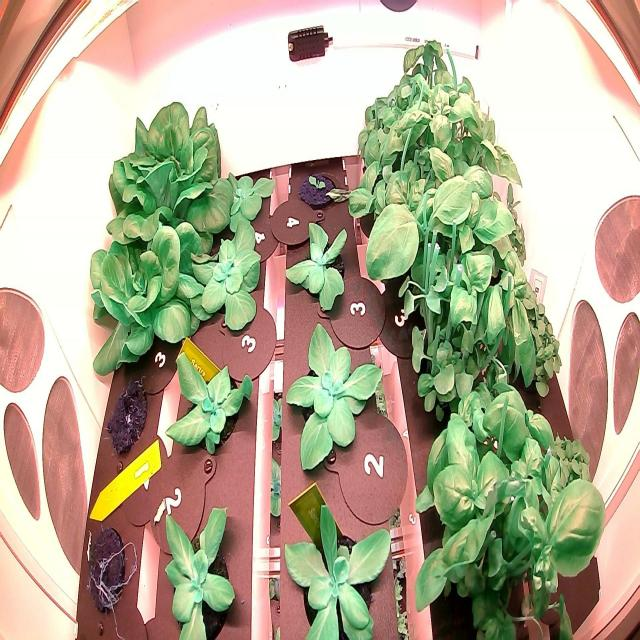Ready: (105, 90, 238, 264), (82, 208, 199, 384)
germination: (292, 149, 345, 217)
young: (276, 486, 398, 640), (276, 316, 389, 480), (154, 337, 262, 471), (158, 492, 242, 639), (185, 212, 271, 340), (279, 211, 357, 320), (205, 154, 277, 244)
